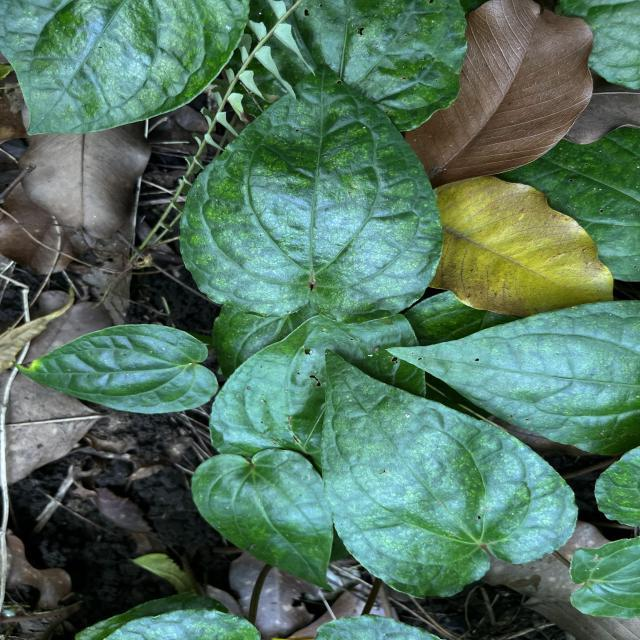Piper betle: (176, 59, 447, 329), (316, 343, 579, 602)
